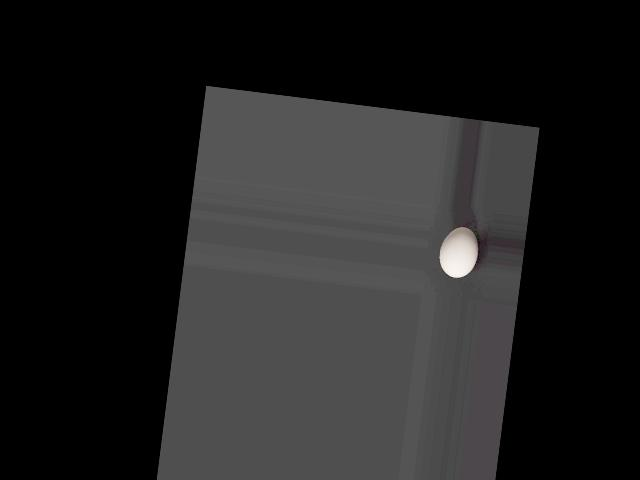egg: (437, 225, 480, 280)
